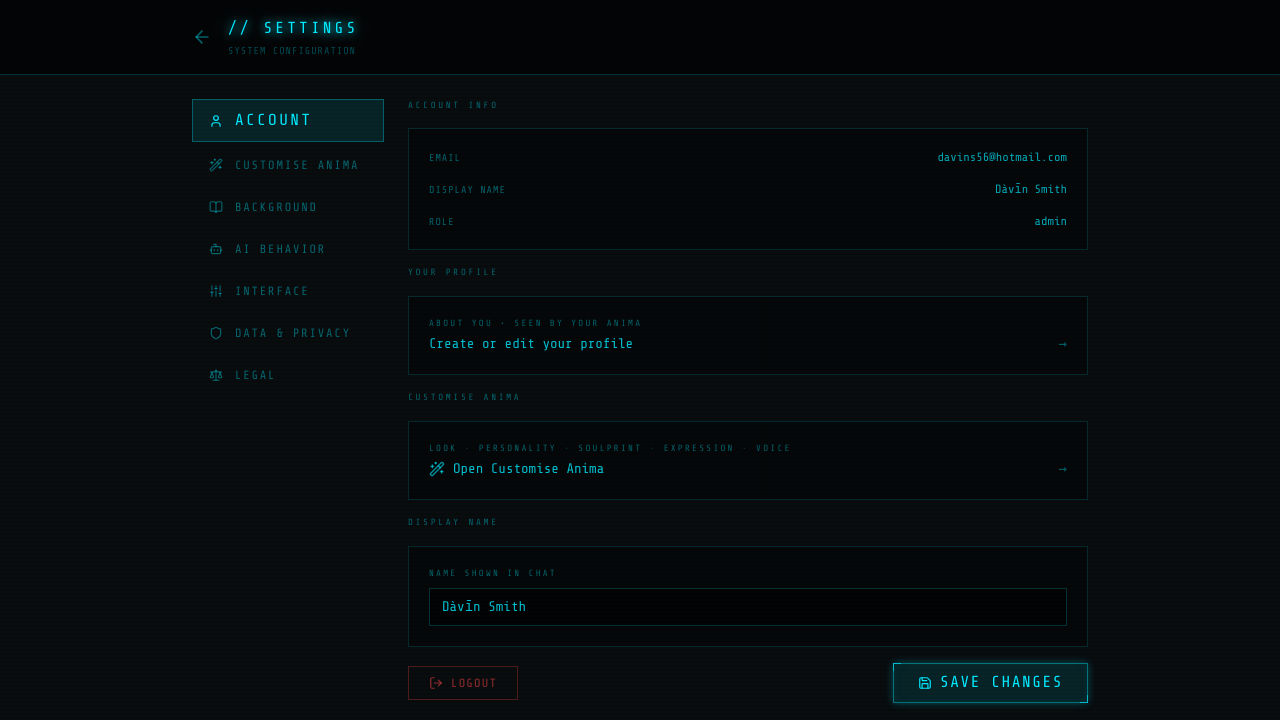
it: Settings account identity after Clerk login › lists Serenity and Aelynd on Settings → Customise Anima
Click the button "Customise Anima": (288, 165) top-left (192, 146), bottom-right (384, 184)
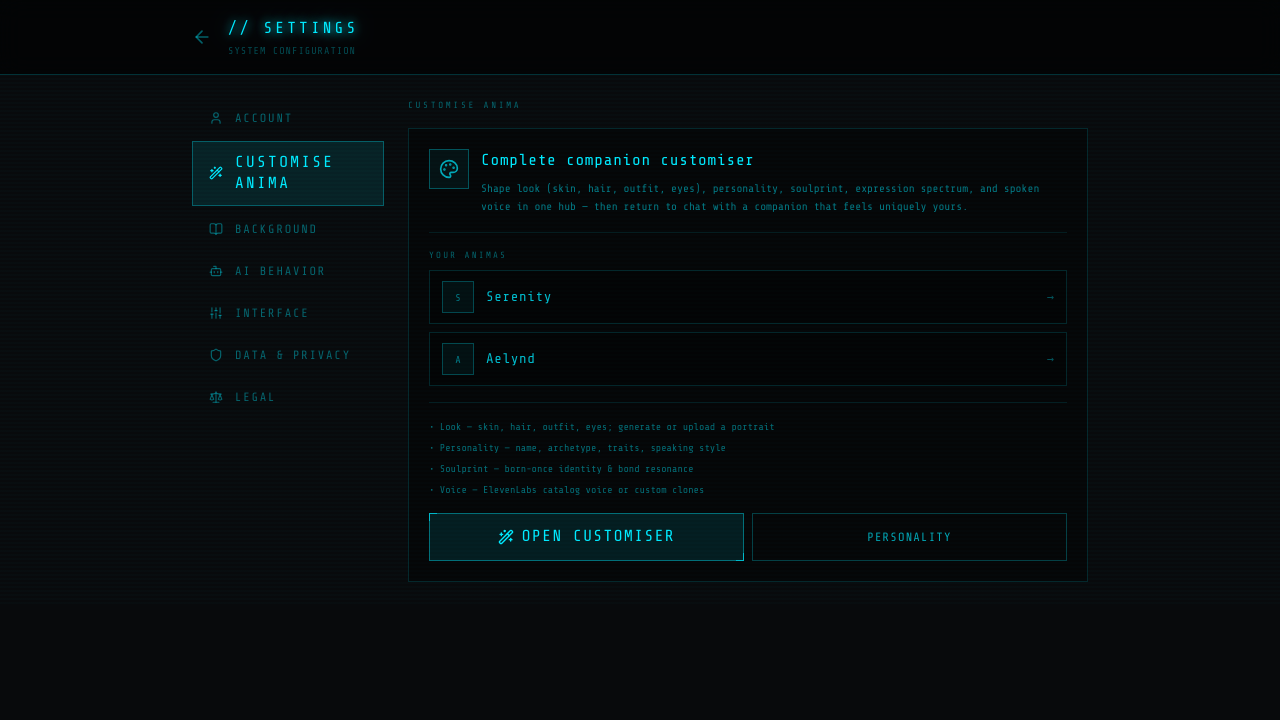
Now the text "Your Animas" is shown, box top-left (429, 250), bottom-right (507, 260)
Now the text "Serenity" is shown, box top-left (486, 288), bottom-right (552, 308)
Now the text "Aelynd" is shown, box top-left (486, 350), bottom-right (536, 370)
